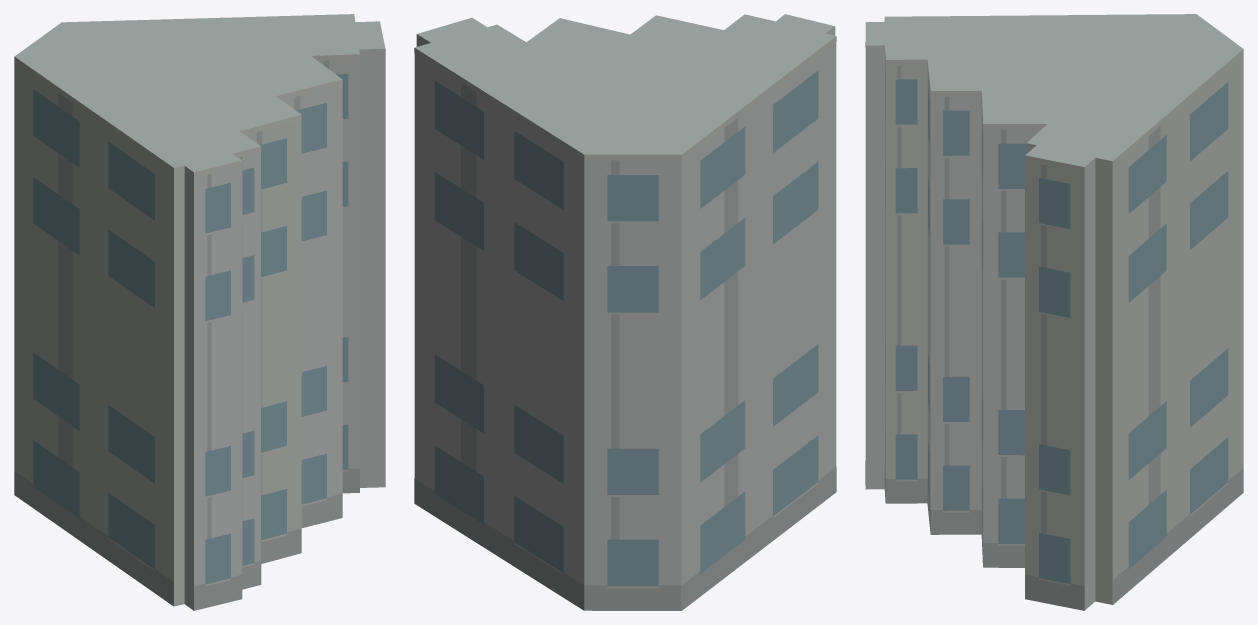
The model's file is survey-upis-32738607.glb.
3 views of the same model, side by side, from view 1: azimuth 30°, elevation 25°; view 2: azimuth 150°, elevation 25°; view 3: azimuth 270°, elevation 25° (orthographic). The views are drawn at different scales.
Visible parts, largest first — view 1: survey-upis-32738607.tmp; view 2: survey-upis-32738607.tmp; view 3: survey-upis-32738607.tmp.
Boxes of the visible parts, <box> form: survey-upis-32738607.tmp: <box>14,14,385,610</box>; survey-upis-32738607.tmp: <box>414,14,836,610</box>; survey-upis-32738607.tmp: <box>865,14,1243,610</box>.
Bounding box in the file's own units: 14.15 × 19.1 × 14.77.
